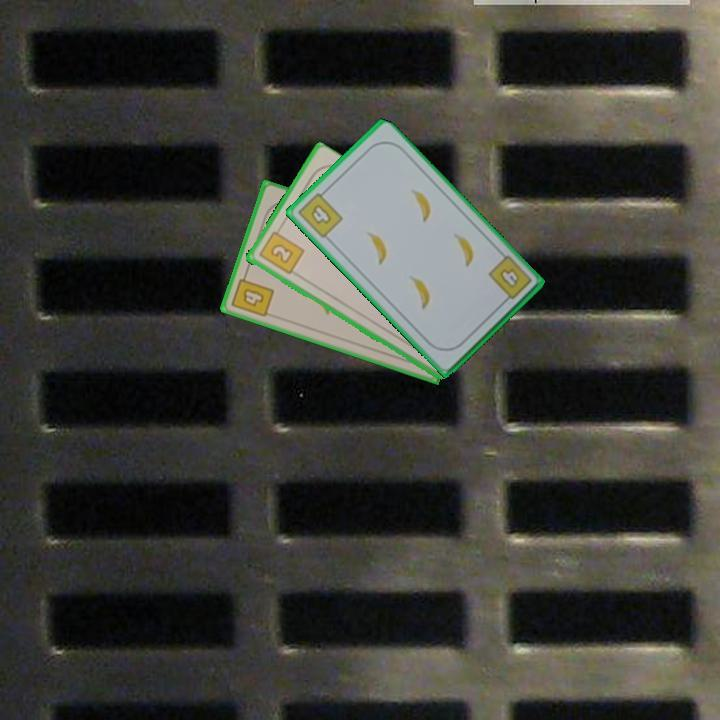2b: (255, 224, 306, 277)
4b: (484, 251, 535, 307), (294, 186, 345, 241), (228, 268, 277, 320)
